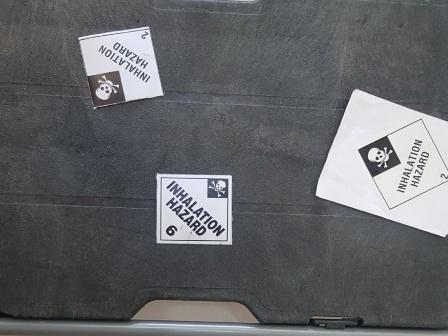poison: (357, 118, 448, 211), (77, 25, 163, 110), (156, 174, 231, 244)
